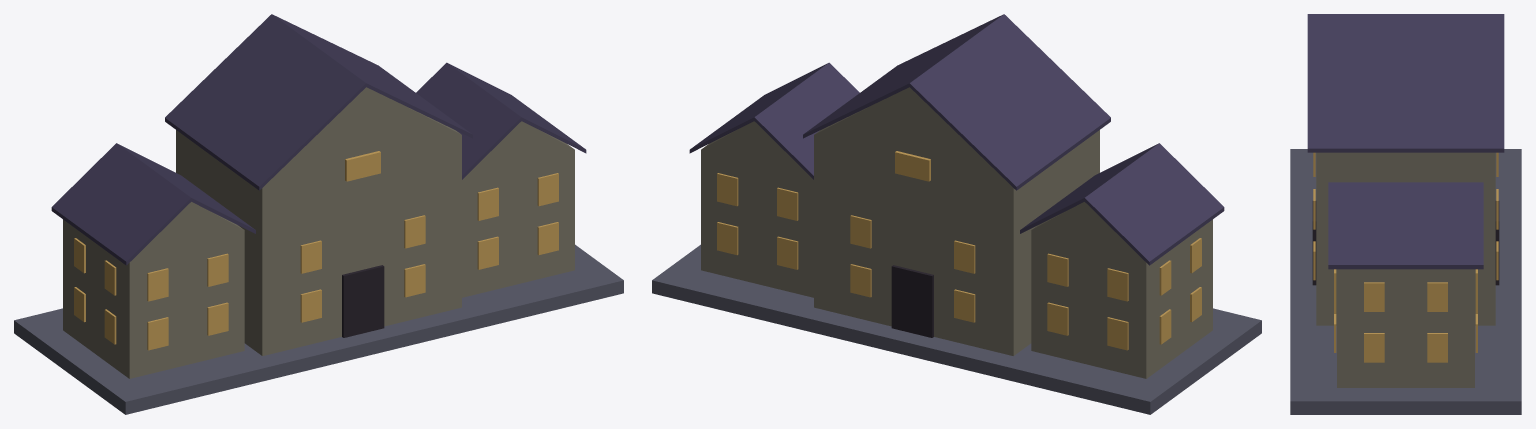
Rendered from HauntedWoods_ManorBackdrop_Simple.glb.
3 renders of one model, left to right at view 1: azimuth 30°, elevation 25°; view 2: azimuth 150°, elevation 25°; view 3: azimuth 270°, elevation 25°, orthographic. The views are drawn at different scales.
Visible parts, largest first — view 1: HauntedWoods_ManorBackdrop_Simple; view 2: HauntedWoods_ManorBackdrop_Simple; view 3: HauntedWoods_ManorBackdrop_Simple.
Part boxes in pixels (x1=…): HauntedWoods_ManorBackdrop_Simple: x1=14, y1=14, x2=623, y2=414; HauntedWoods_ManorBackdrop_Simple: x1=652, y1=14, x2=1261, y2=414; HauntedWoods_ManorBackdrop_Simple: x1=1290, y1=14, x2=1521, y2=414.
Bounding box in the file's own units: 16 × 8.12 × 6.2.
